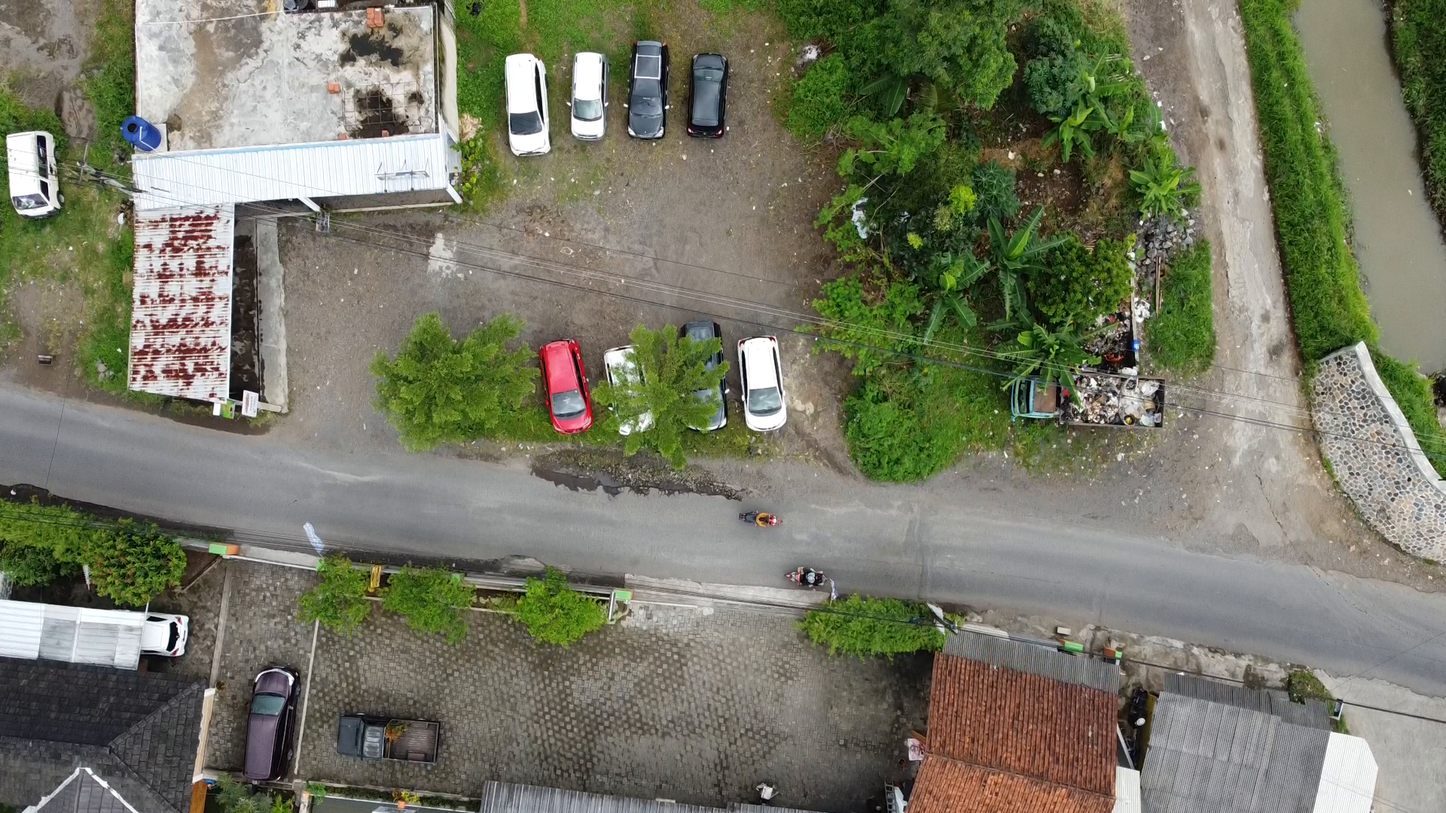mobil: (236, 658, 311, 782), (675, 311, 734, 446), (593, 340, 666, 443), (331, 704, 444, 770), (526, 332, 599, 434), (499, 47, 562, 165), (727, 330, 795, 436), (4, 127, 69, 227), (619, 35, 672, 147), (686, 44, 729, 148), (569, 50, 615, 144), (136, 611, 197, 661)
